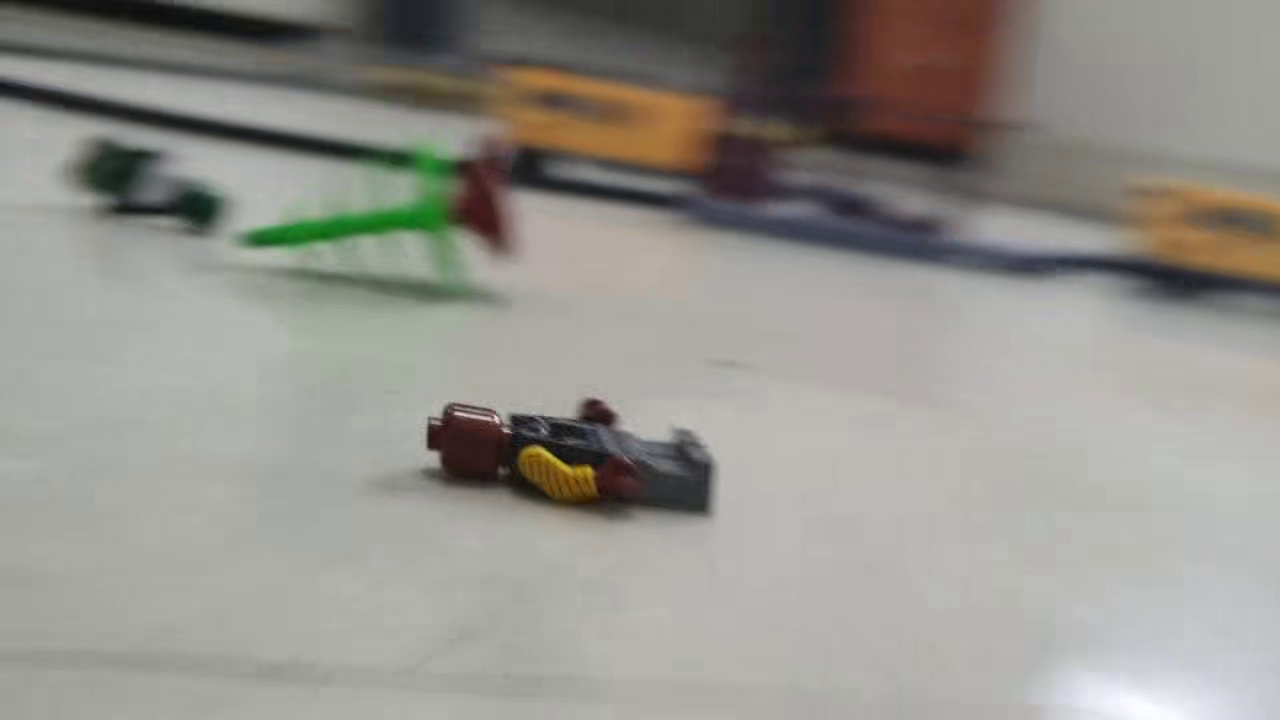people: (417, 396, 725, 520), (53, 131, 238, 246)
tree: (225, 124, 521, 304)
